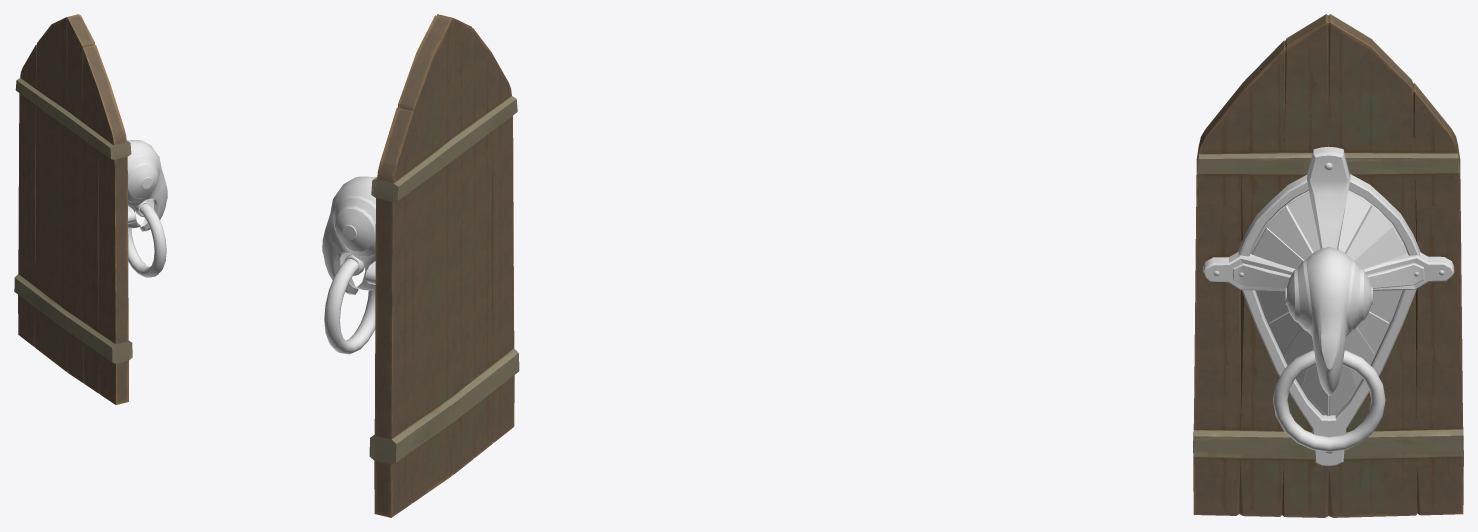
Rendered from ShortcutDoor_Fix_Rotate.fbx.
3 renders of one model, left to right at view 1: azimuth 30°, elevation 25°; view 2: azimuth 150°, elevation 25°; view 3: azimuth 270°, elevation 25°, orthographic. The views are drawn at different scales.
Visible parts, largest first — view 1: ShadowCaster, crowHead, doorRing; view 2: ShadowCaster, crowHead, doorRing; view 3: ShadowCaster, crowHead, doorRing.
Boxes of the visible parts, box(x1,y1,x2,y2) form: ShadowCaster: box(14, 14, 132, 404); crowHead: box(127, 140, 167, 231); doorRing: box(128, 200, 166, 277); ShadowCaster: box(369, 14, 519, 517); crowHead: box(322, 176, 375, 294); doorRing: box(324, 254, 375, 354); ShadowCaster: box(1193, 14, 1463, 517); crowHead: box(1203, 146, 1454, 466); doorRing: box(1273, 350, 1385, 452).
Size of the model in its own units: 296 by 960 by 1279.
4 materials, 3 textured.
